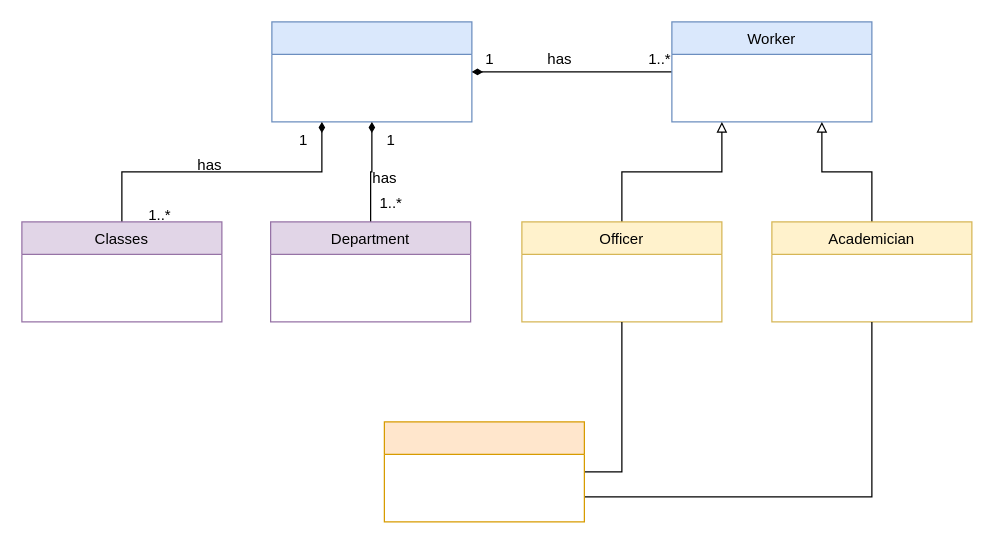
The diagram is 994 pixels wide and 544 high, and some of its shapes have lost their labels. Here are the shapes that lost their labels. From the top down, the centre of each, then its label:
At pixel 371 71: "University".
At pixel 483 471: "Work Office".
